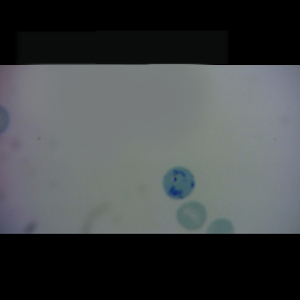aggregate reticulocyte: (161, 164, 197, 201)
erythrocyte: (175, 199, 208, 231)
